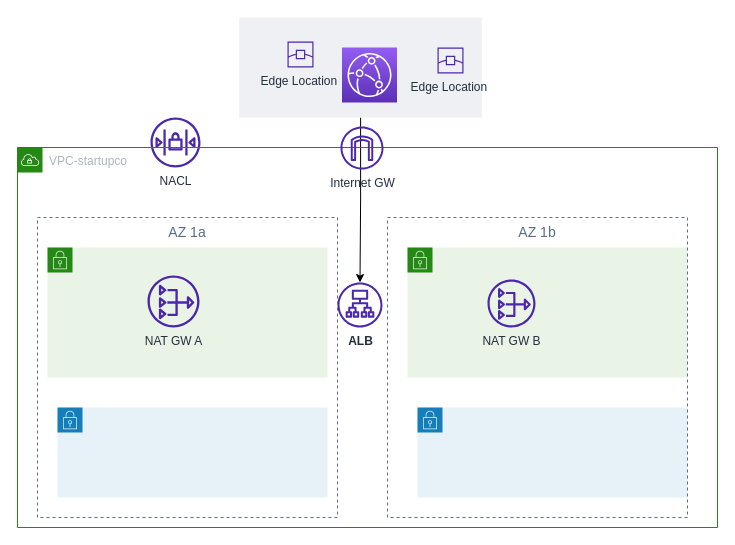
The diagram is 735 pixels wide and 545 high, and some of its shapes have lost their labels. Here are the shapes that lost their labels. From the top down, the box of each, then its label:
(239, 17, 481, 117): CloudFront
(46, 246, 328, 378): Public subnet a
(406, 246, 688, 378): Public subnet b
(56, 406, 328, 498): Private subnet a
(416, 406, 688, 498): Private subnet b
